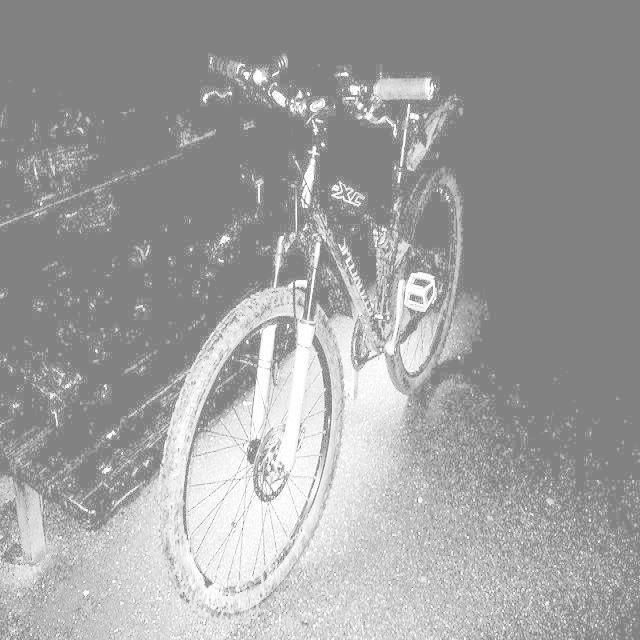Bicycle: (139, 50, 477, 624)
